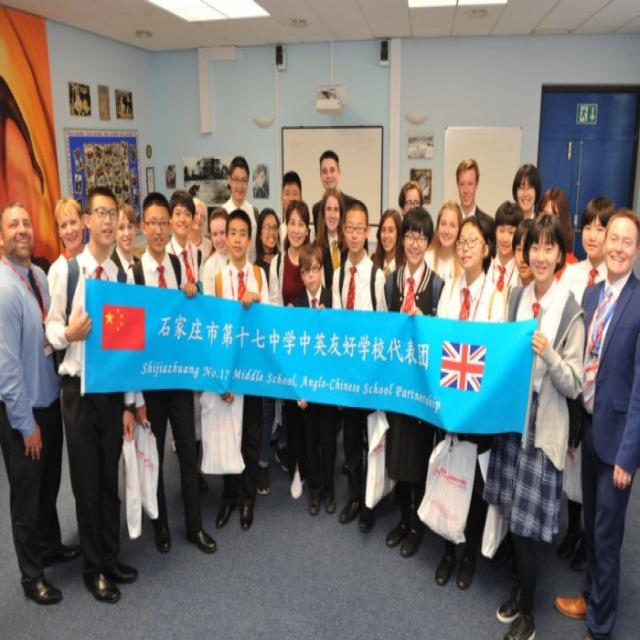body: (482, 208, 587, 640), (42, 185, 141, 606), (550, 202, 639, 638), (0, 195, 85, 610), (413, 212, 506, 590), (124, 188, 218, 558), (556, 193, 619, 574), (382, 205, 447, 560), (328, 198, 390, 534), (212, 207, 273, 536), (269, 199, 327, 500), (290, 241, 338, 517), (252, 207, 292, 497), (68, 78, 140, 228), (310, 148, 369, 255), (164, 187, 206, 300), (218, 153, 260, 266), (532, 185, 580, 282), (452, 158, 497, 256), (484, 199, 526, 303), (164, 190, 204, 292), (422, 196, 467, 284), (272, 168, 316, 254), (166, 156, 228, 215), (315, 188, 350, 292), (503, 216, 534, 318), (200, 207, 232, 300), (369, 207, 407, 277), (108, 200, 143, 274), (511, 162, 543, 219), (398, 178, 425, 217), (252, 162, 269, 198)
